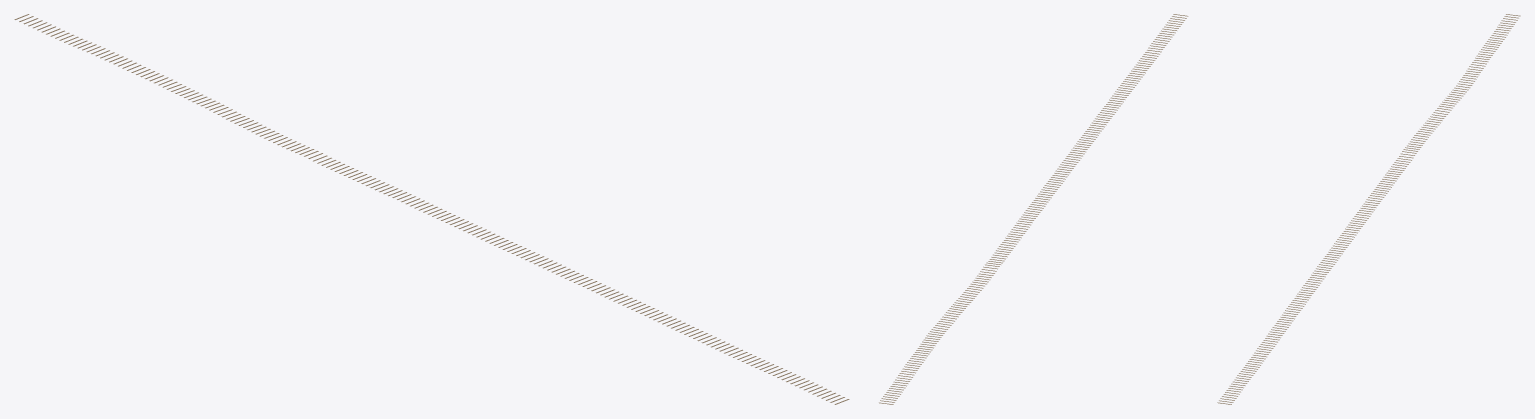
File: c_1629_17818_rail_sleeper.glb
3 renders of one model, left to right at view 1: azimuth 30°, elevation 25°; view 2: azimuth 150°, elevation 25°; view 3: azimuth 330°, elevation 25°, orthographic. The views are drawn at different scales.
Visible parts, largest first — view 1: geometry_0; view 2: geometry_0; view 3: geometry_0.
Part boxes in pixels (x1=…): geometry_0: x1=14, y1=14, x2=849, y2=404; geometry_0: x1=879, y1=14, x2=1188, y2=404; geometry_0: x1=1217, y1=14, x2=1520, y2=404.
Bounding box in the file's own units: 34.31 × 0.7034 × 146.
